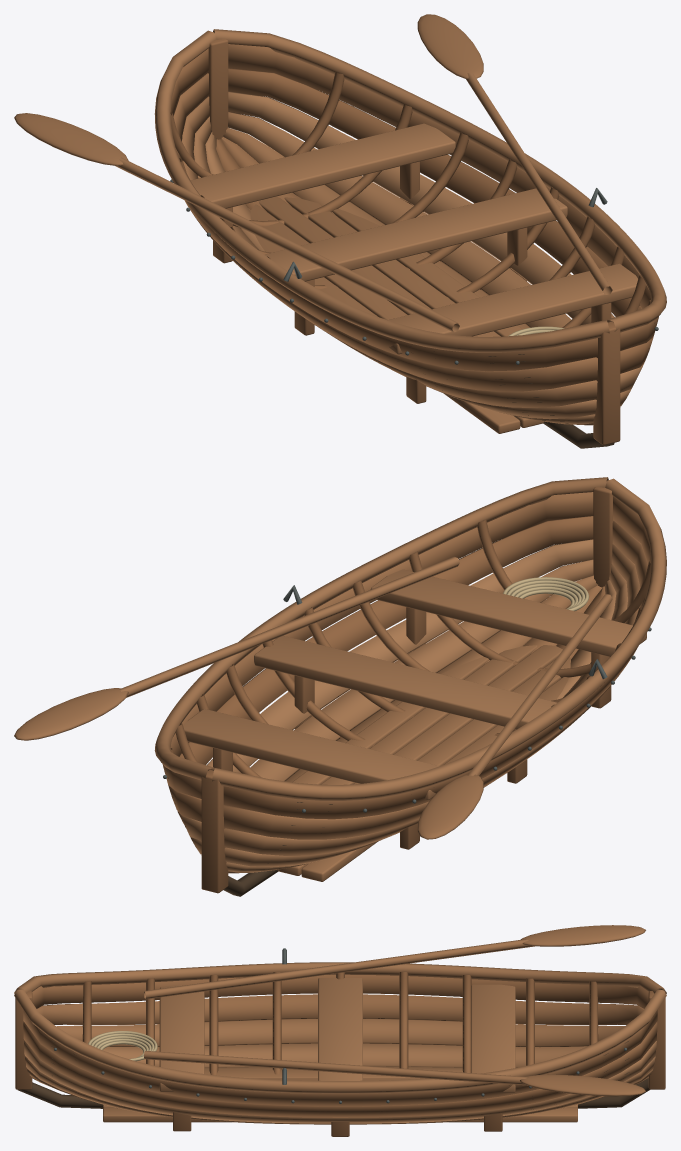
File: FishingBoat.fbx
3 views of the same model, one above another, from view 1: azimuth 30°, elevation 25°; view 2: azimuth 150°, elevation 25°; view 3: azimuth 270°, elevation 25° (orthographic). The views are drawn at different scales.
Parts seen in each view (by area): view 1: FishingBoat mesh; view 2: FishingBoat mesh; view 3: FishingBoat mesh.
Boxes of the visible parts, box(x1,y1,x2,y2) form: FishingBoat mesh: box(14, 14, 666, 448); FishingBoat mesh: box(14, 477, 666, 896); FishingBoat mesh: box(14, 925, 666, 1136).
Bounding box in the file's own units: 216 × 74.84 × 351.
